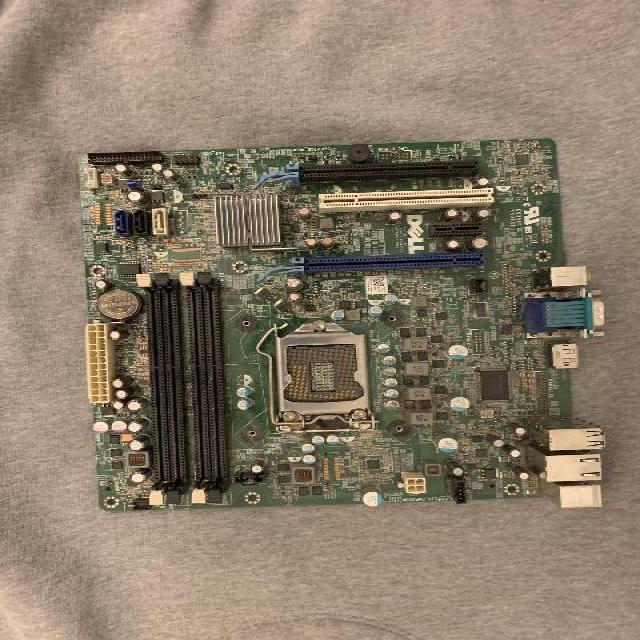Mainboard: (80, 138, 608, 512)
